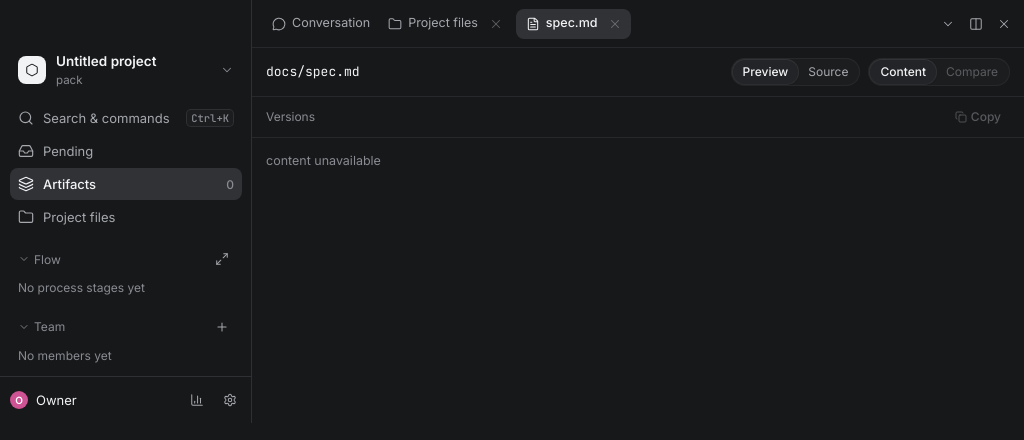
Scenario: 「打开方式」子菜单（A16b） › 产物页签：复制路径之后有「打开方式」，作用于页签路径
The image size is (1024, 440).
Step 1. Right-click the element showing "spec.md" → (574, 24), box [516,8,631,38]
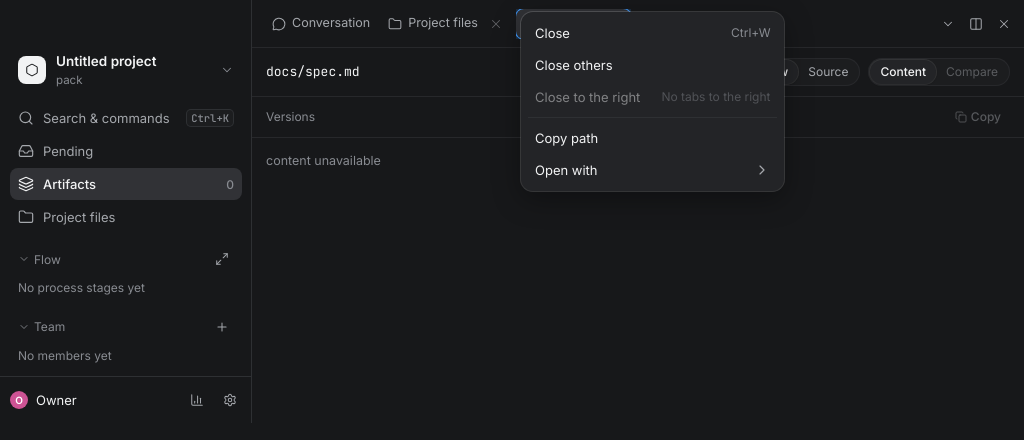
Check: the menu item "Open with" is shown, box [535,162,770,178]
